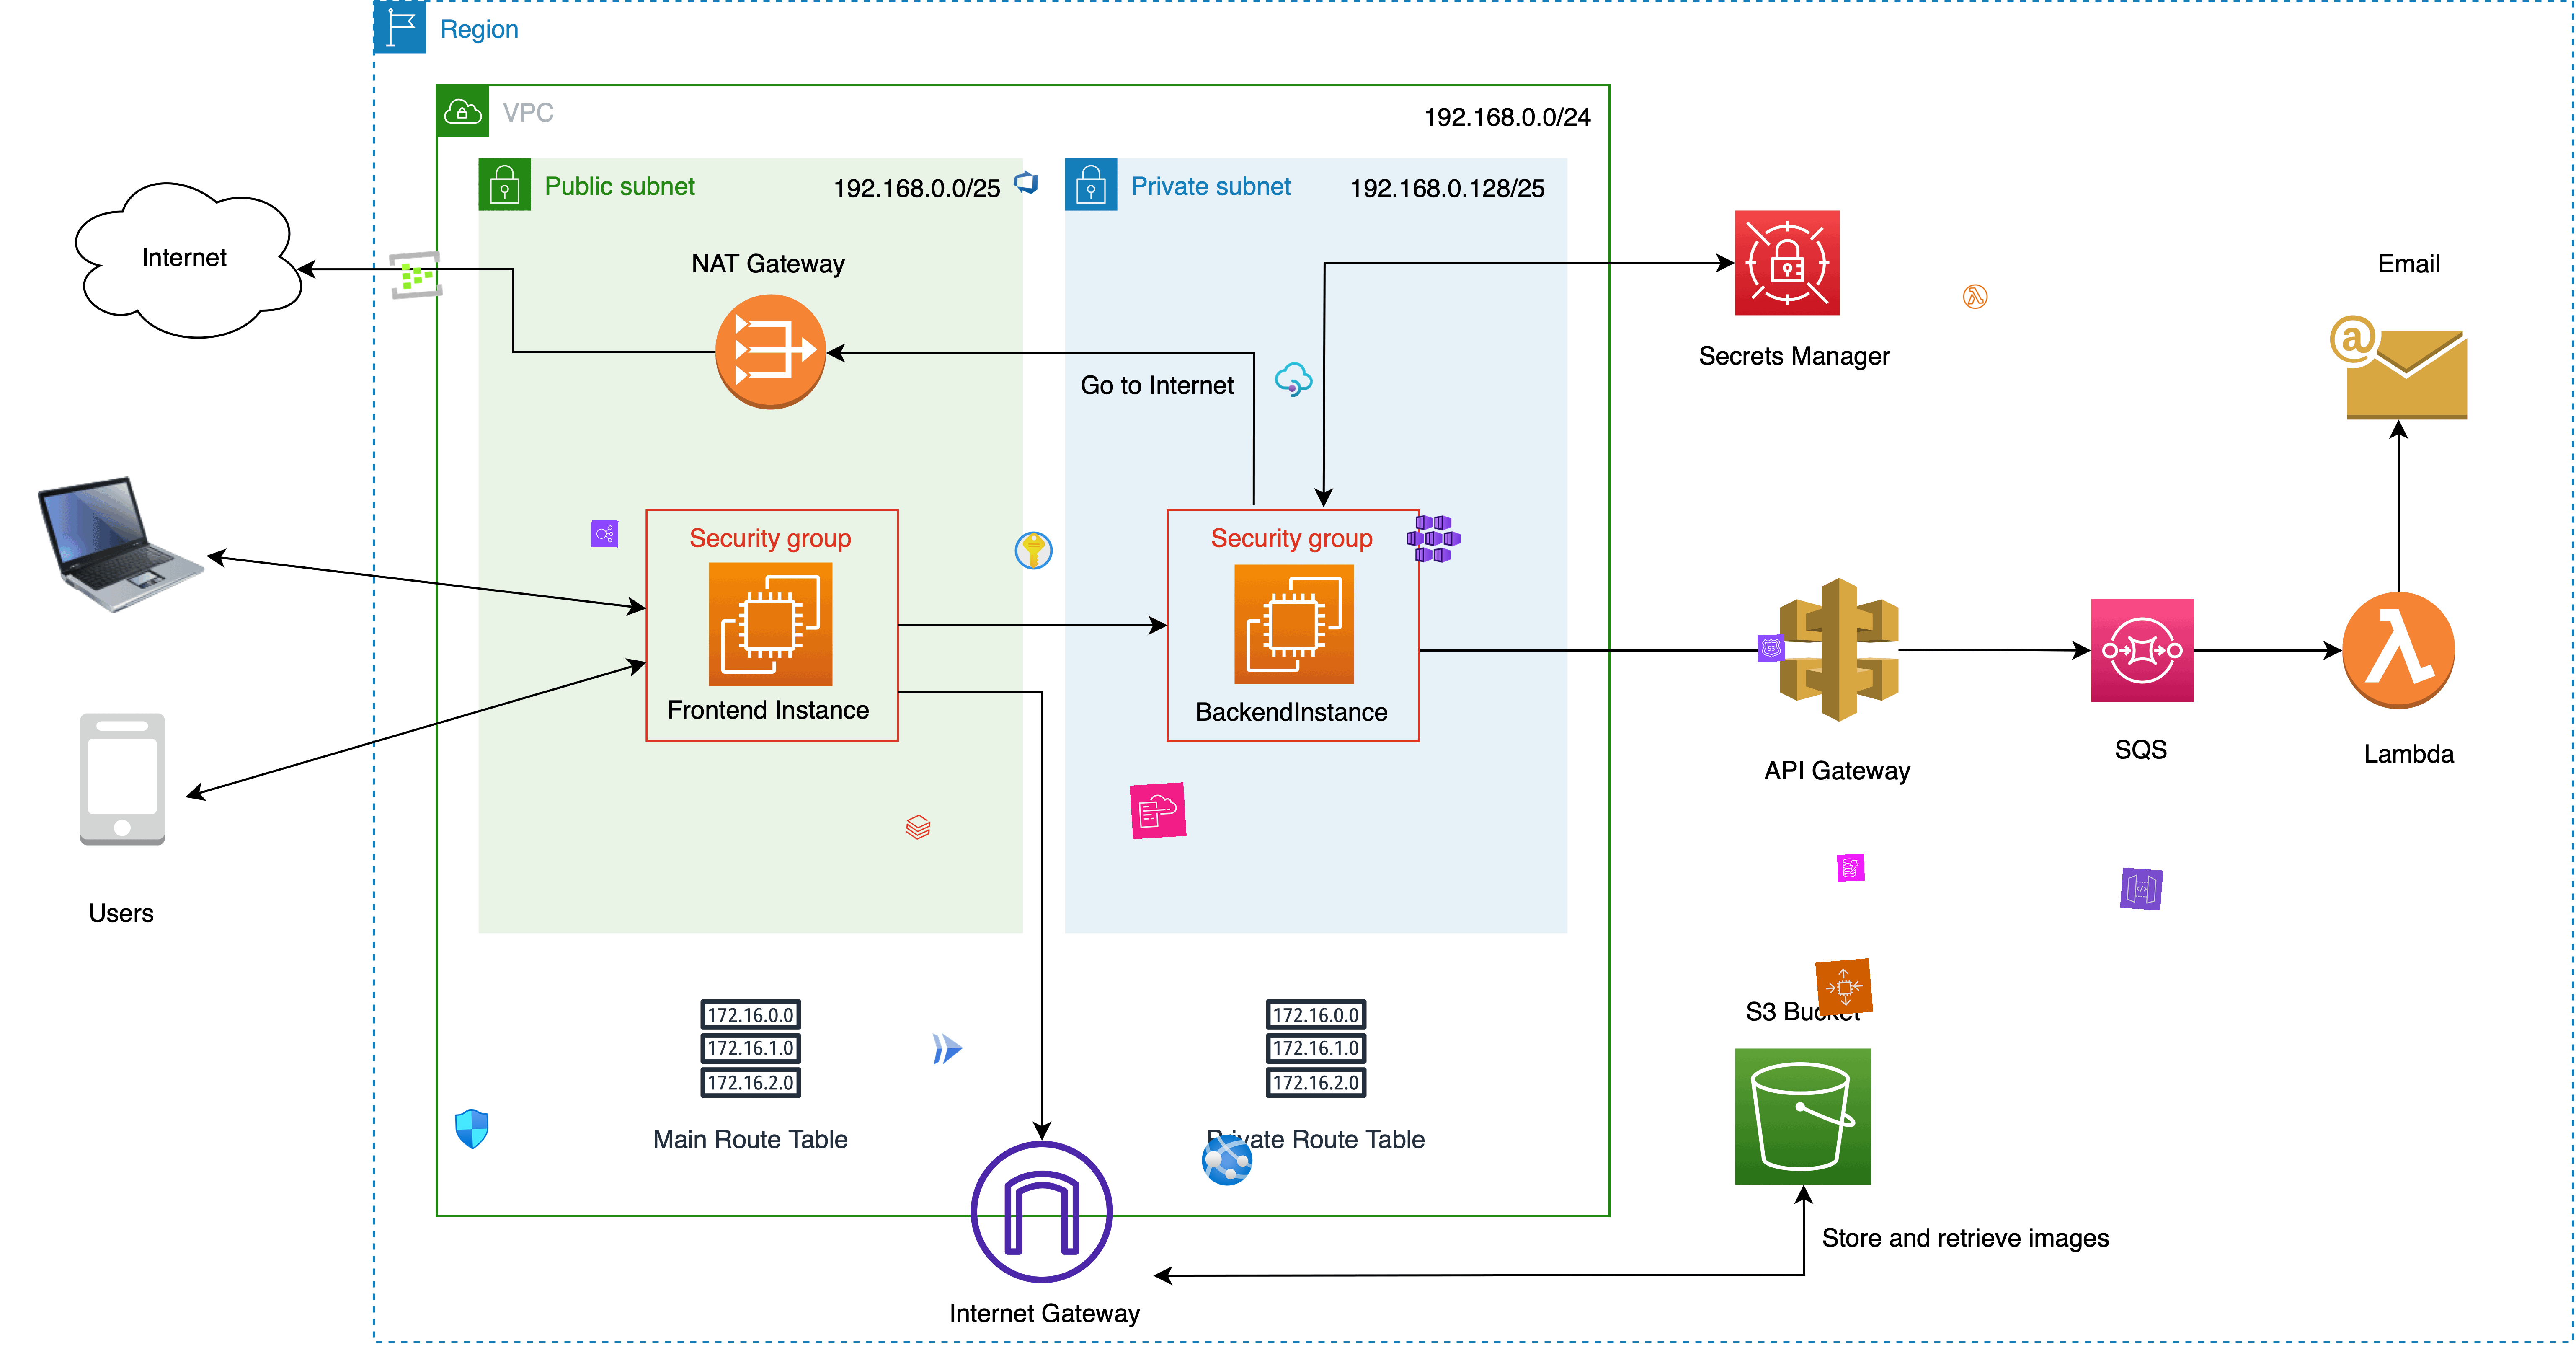aws_amazon_api_gateway: (2119, 868, 2164, 910)
aws_amazon_dynamodb: (1837, 854, 1866, 881)
aws_amazon_ec2_auto_scaling: (1814, 958, 1874, 1016)
aws_amazon_route_53: (1757, 634, 1785, 663)
aws_cloudformation: (1130, 782, 1187, 839)
aws_elastic_load_balancing: (591, 520, 618, 547)
aws_lambda_lambda_function: (1961, 281, 1990, 312)
azure_api_management_services: (1273, 358, 1315, 401)
azure_app_services: (1199, 1134, 1254, 1188)
azure_databricks: (903, 813, 934, 842)
azure_devops: (1012, 167, 1039, 196)
azure_event_hubs: (387, 245, 445, 303)
azure_key_vaults: (1014, 530, 1055, 571)
azure_kubernetes_services: (1407, 511, 1462, 566)
azure_network_security_groups: (451, 1108, 492, 1151)
gcp_cloud_run: (927, 1028, 968, 1069)
